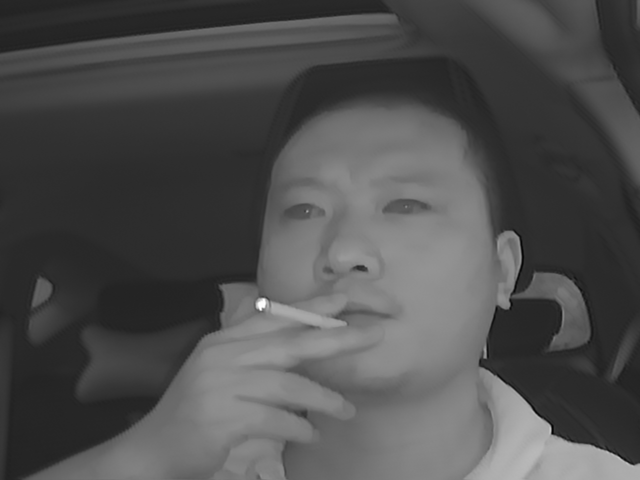hand: (230, 284, 380, 447)
